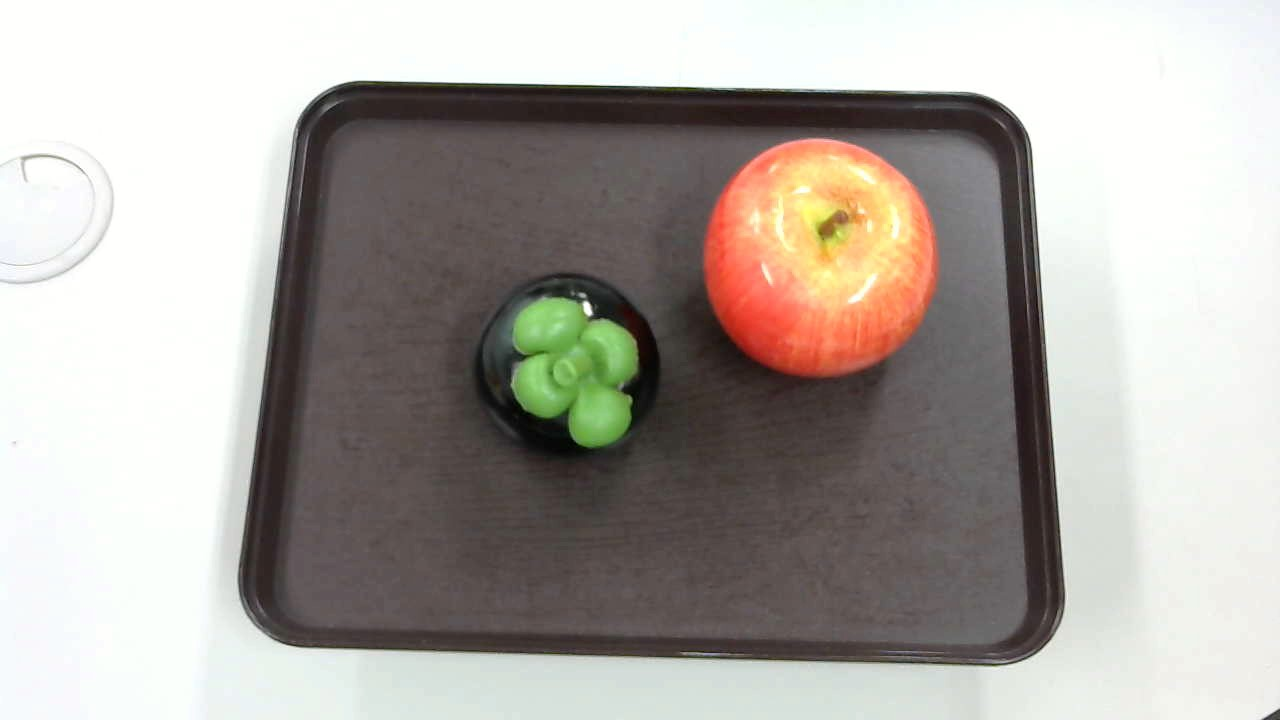mangosteen: (469, 268, 664, 458)
red apple: (701, 137, 939, 380)
